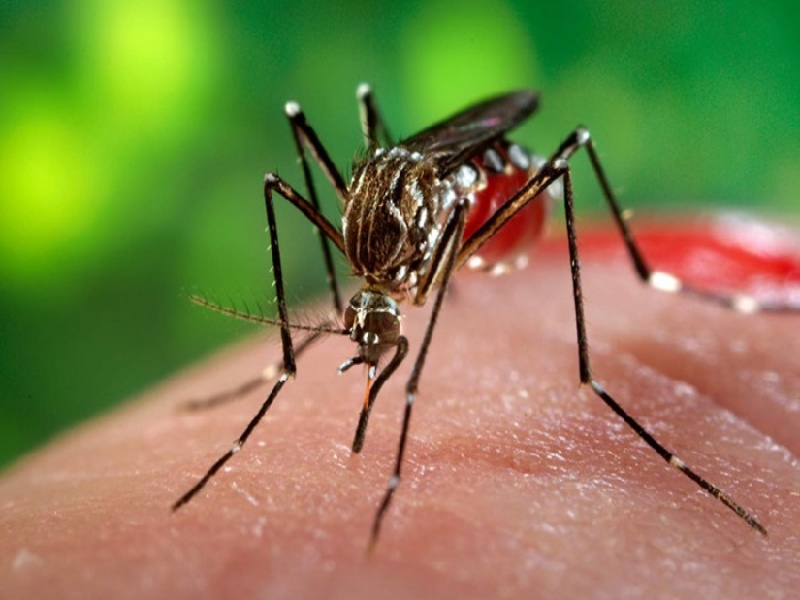dengue_mosquito: (188, 81, 602, 399)
